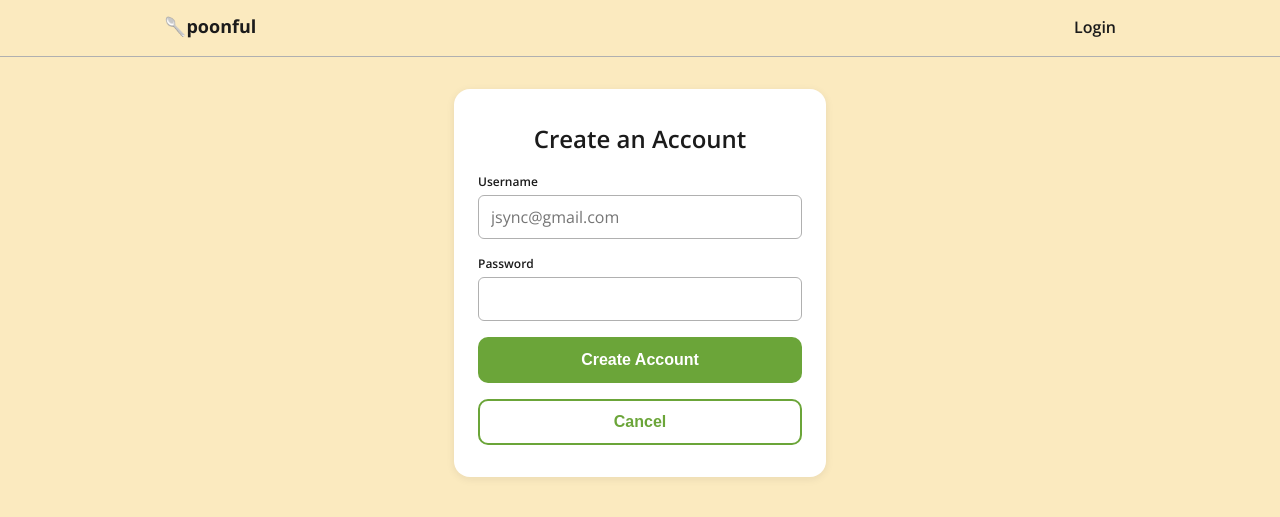
Test: Signup › validates minimum password length before submitting
Type "user@example.com" into the field labelled "Username". click: (640, 217)
box: x1=478 y1=195 x2=802 y2=239
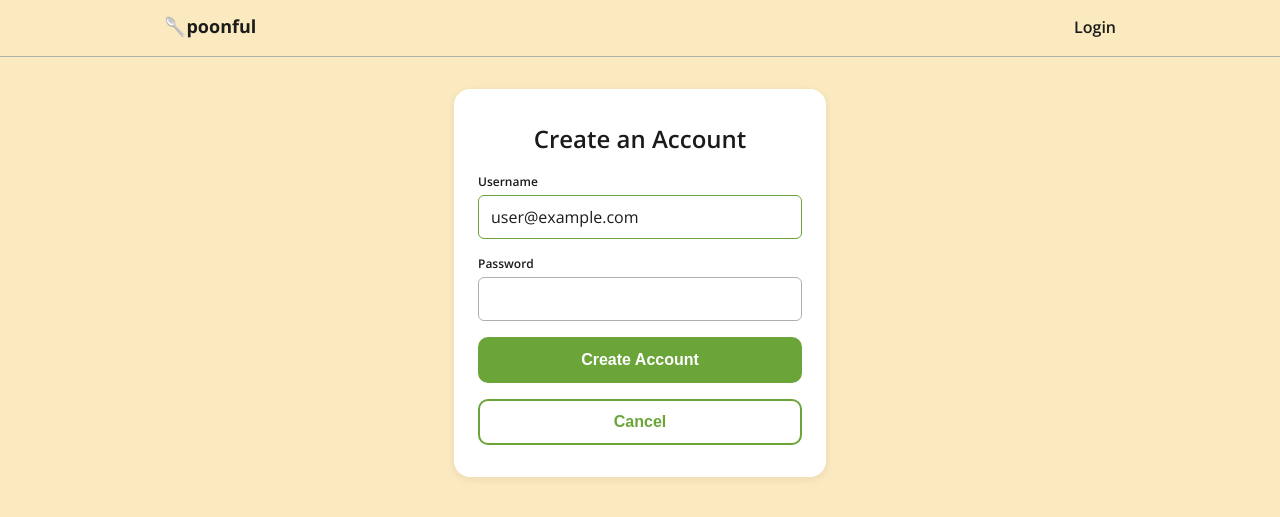
Type "short" into the password field labelled "Password". click: (640, 299)
box: x1=478 y1=277 x2=802 y2=321
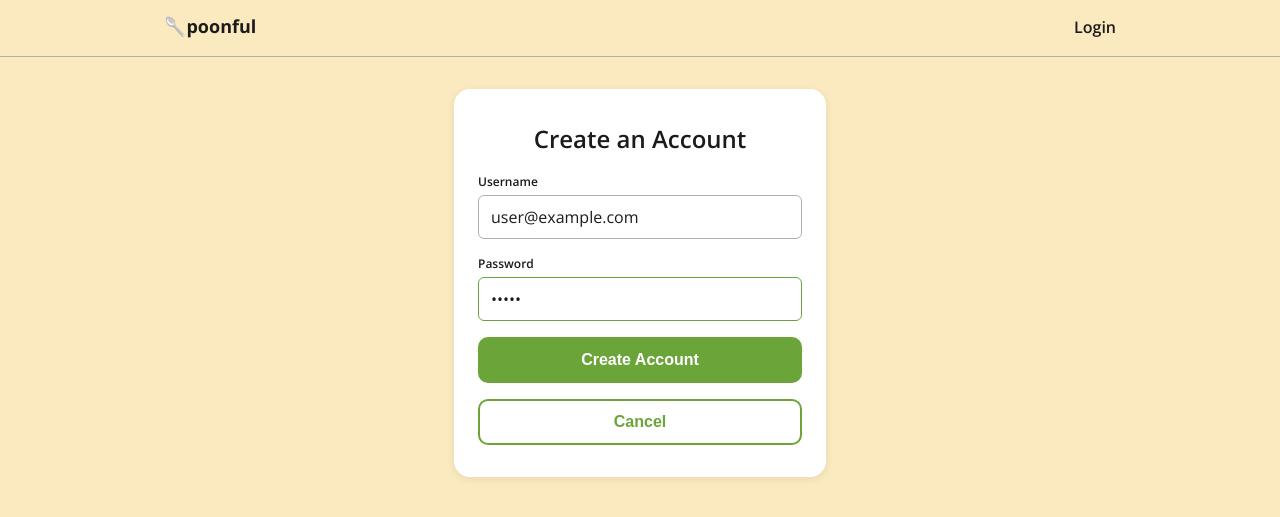
Click the button "Create Account". click: (640, 360)
box: x1=478 y1=337 x2=802 y2=383
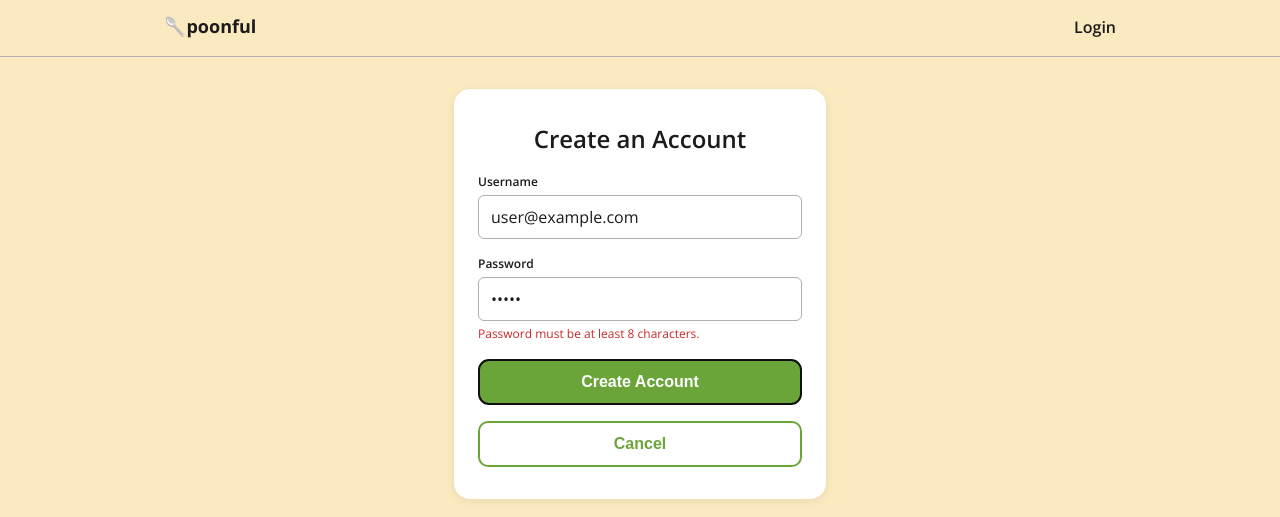
Expected: the text "Password must be at least 8 characters." is shown, x1=478 y1=325 x2=700 y2=342
